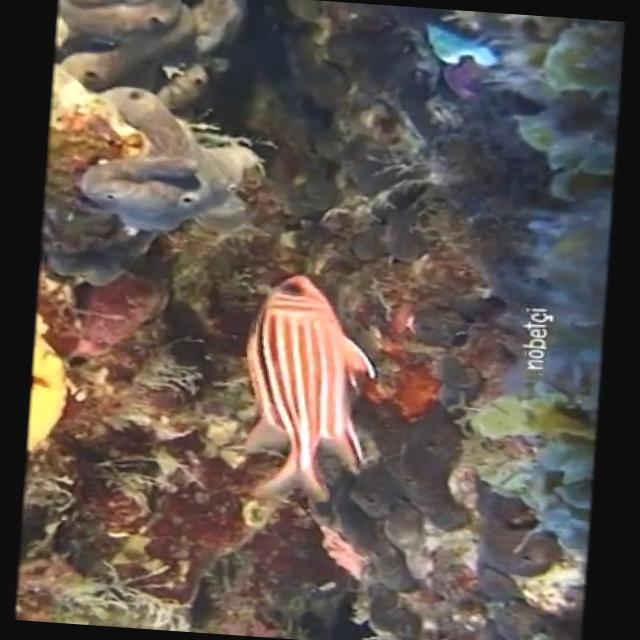Asker Baligi: (229, 268, 385, 511)
